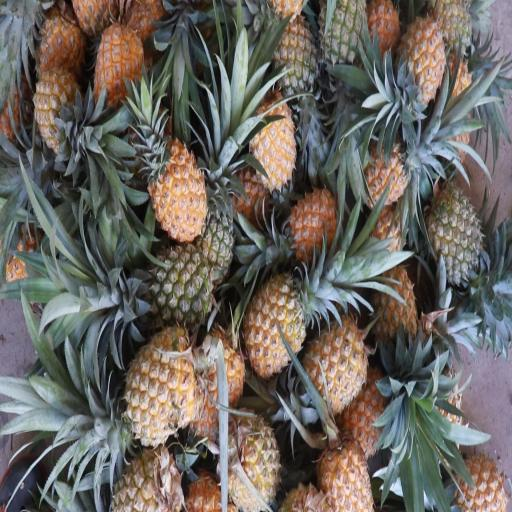------------------------------: (263, 4, 318, 92)
Pineapple - v8 v1: (108, 323, 207, 448), (241, 272, 320, 384), (27, 62, 99, 168), (306, 319, 375, 429), (186, 324, 245, 452), (144, 133, 211, 244), (222, 407, 289, 512), (87, 9, 145, 130), (388, 7, 449, 121), (363, 258, 420, 368), (106, 432, 184, 512), (244, 98, 301, 197), (278, 182, 340, 269), (352, 136, 414, 216), (440, 446, 508, 512), (314, 443, 375, 512)
